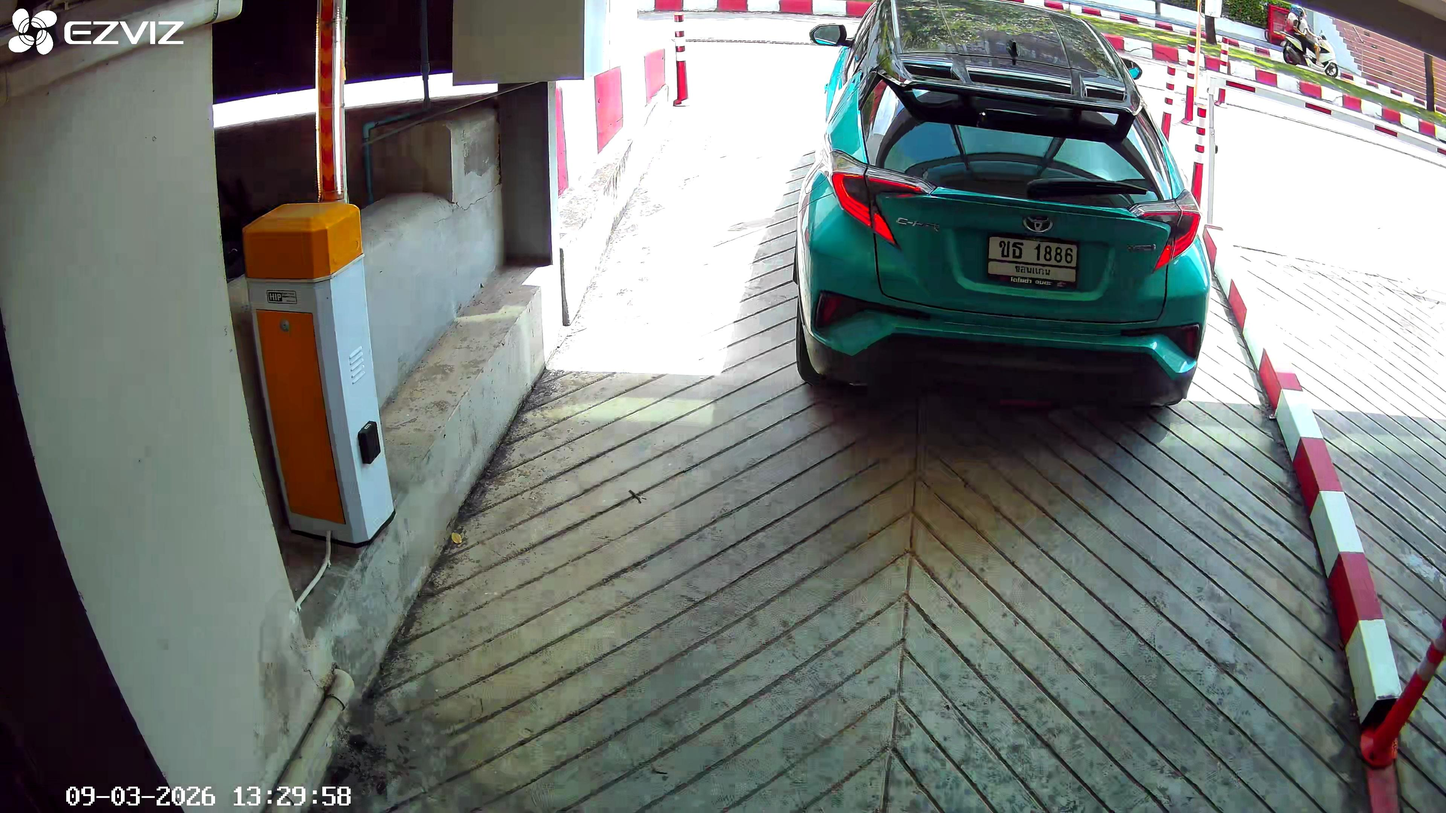car: (793, 6, 1213, 416)
license-plate: (983, 229, 1081, 289)
